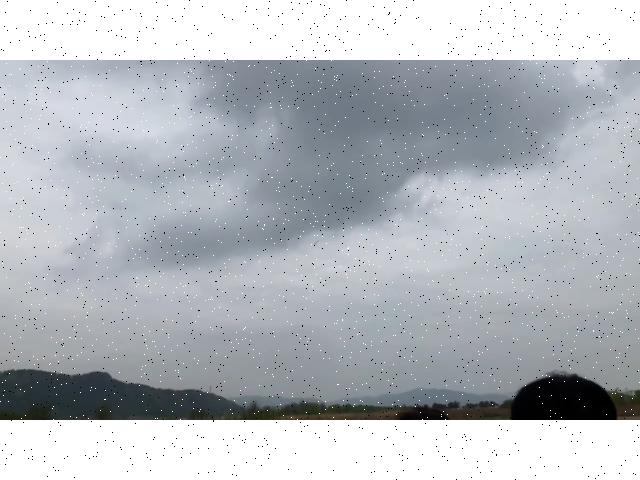Anti-Drone: (309, 238, 327, 247)
